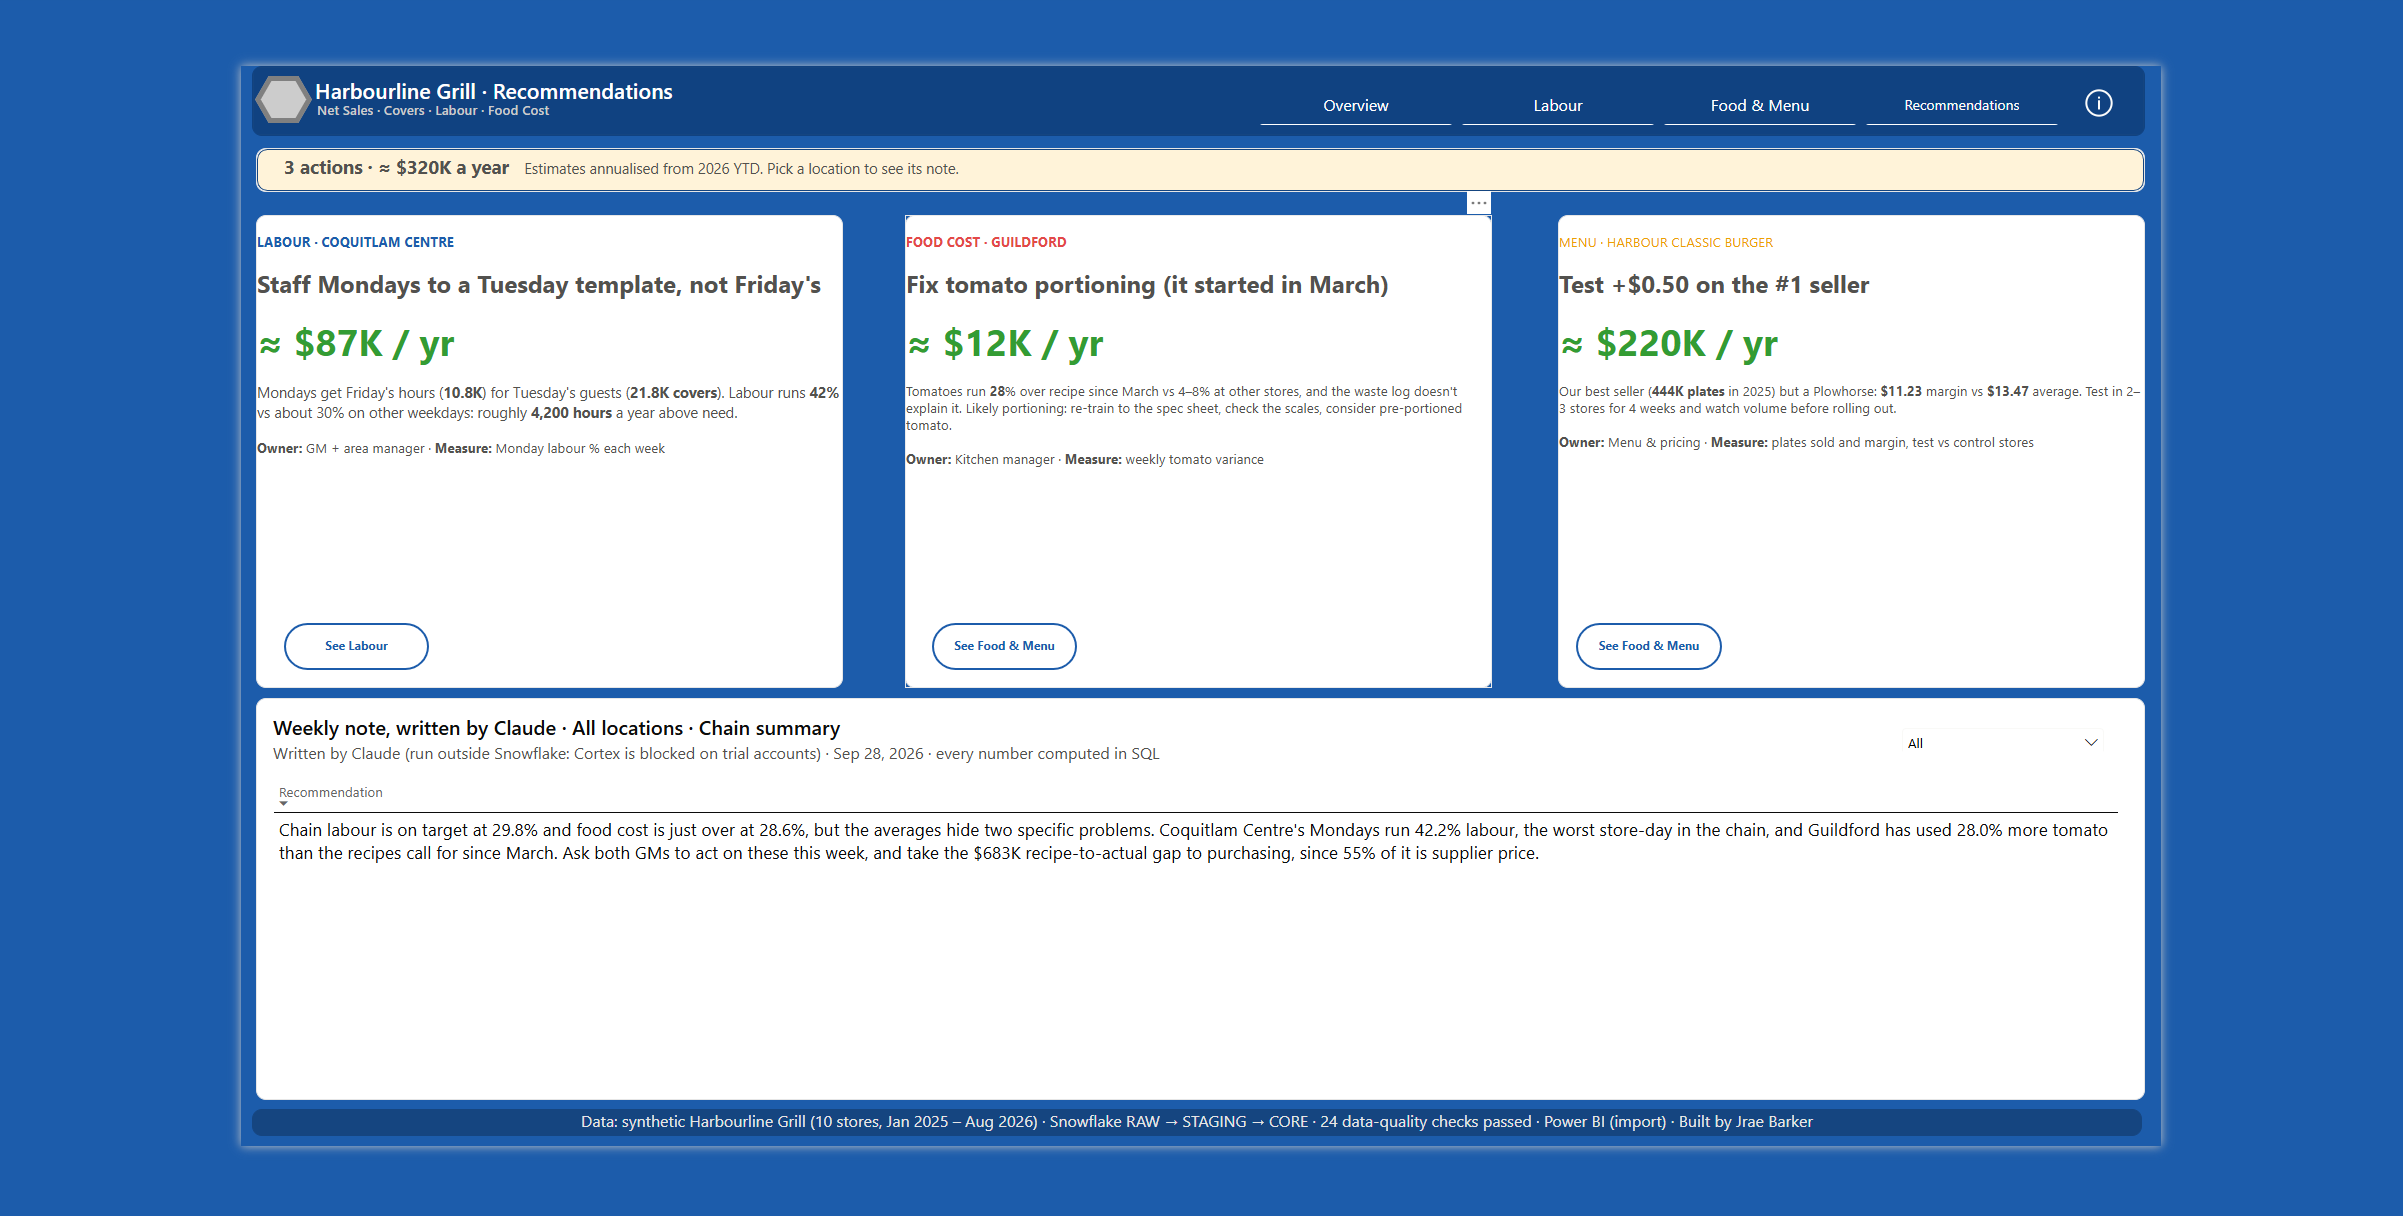

Layout of this report page (visuals, bound fields, positions):
{"tool":"powerbi","page":{"name":"Recommendations","canvas":[1920,1080],"ordinal":3},"visuals":[{"type":"group","id":"g1","title":"Header","box":[10.8,0,1893.5,69.7],"z":0},{"type":"shape","title":"Harbourline Grill · Overview","box":[10.8,0,1893.5,69.7],"z":0,"group":"g1"},{"type":"shape","box":[14.5,9.6,56.6,47],"z":1000},{"type":"textbox","title":"Harbourline Grill · Recommendations","box":[74.1,10.1,374.1,29.3],"z":1000,"group":"g1"},{"type":"textbox","title":"Net Sales · Covers · Labour · Food Cost","box":[75.6,35.4,300.5,29.5],"z":2000,"group":"g1"},{"type":"shape","box":[14.6,82.3,1889.6,43.9],"z":2000},{"type":"pageNavigator","box":[1017.4,18.7,800.4,40.3],"z":3000,"group":"g1"},{"type":"textbox","box":[42.8,87.9,1632.7,30.4],"z":3000},{"type":"actionButton","box":[1825.7,14.7,63.8,44.2],"z":4000,"group":"g1"},{"type":"textbox","box":[14.6,148.7,587,473.2],"z":4000},{"type":"textbox","box":[663.7,148.7,587,473.2],"z":5000},{"type":"textbox","box":[1317.2,148.7,587,473.2],"z":6000},{"type":"actionButton","box":[42.8,556.6,145.4,47.3],"z":7000},{"type":"actionButton","box":[690.7,556.6,145.4,47.3],"z":8000},{"type":"actionButton","box":[1335.2,556.6,145.4,47.3],"z":9000},{"type":"textbox","box":[11.3,1043.4,1889.6,27],"z":10000},{"type":"tableEx","fields":{"Values":["_Measures.AI Note"]},"box":[14.6,632.1,1889.6,402.3],"z":11000},{"type":"slicer","fields":{"Values":["DIM_LOCATION.LOCATION_NAME"]},"box":[1655.2,655.8,214,31.4],"z":11500}]}

Visuals, with their boxes on the page's 1920x1080 design canvas (x1, y1, x2, y2). These are canvas units, not pixel positions in the 2403x1216 screenshot, which may show the page scaled, cropped or inside an application window:
"Header" group: 11 0 1904 70
"Harbourline Grill · Overview" shape: 11 0 1904 70
shape: 14 10 71 57
"Harbourline Grill · Recommendations" textbox: 74 10 448 39
"Net Sales · Covers · Labour · Food Cost" textbox: 76 35 376 65
shape: 15 82 1904 126
pageNavigator: 1017 19 1818 59
textbox: 43 88 1676 118
actionButton: 1826 15 1890 59
textbox: 15 149 602 622
textbox: 664 149 1251 622
textbox: 1317 149 1904 622
actionButton: 43 557 188 604
actionButton: 691 557 836 604
actionButton: 1335 557 1481 604
textbox: 11 1043 1901 1070
tableEx - _Measures.AI Note: 15 632 1904 1034
slicer - DIM_LOCATION.LOCATION_NAME: 1655 656 1869 687
